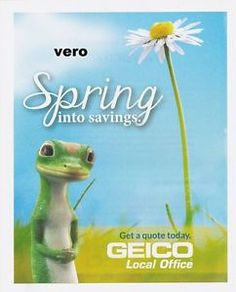Geico: (104, 242, 196, 258)
